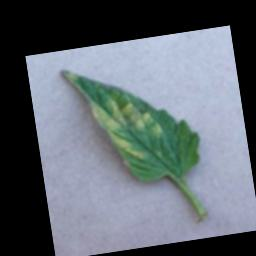Leaf_Mold: (90, 91, 167, 166)
